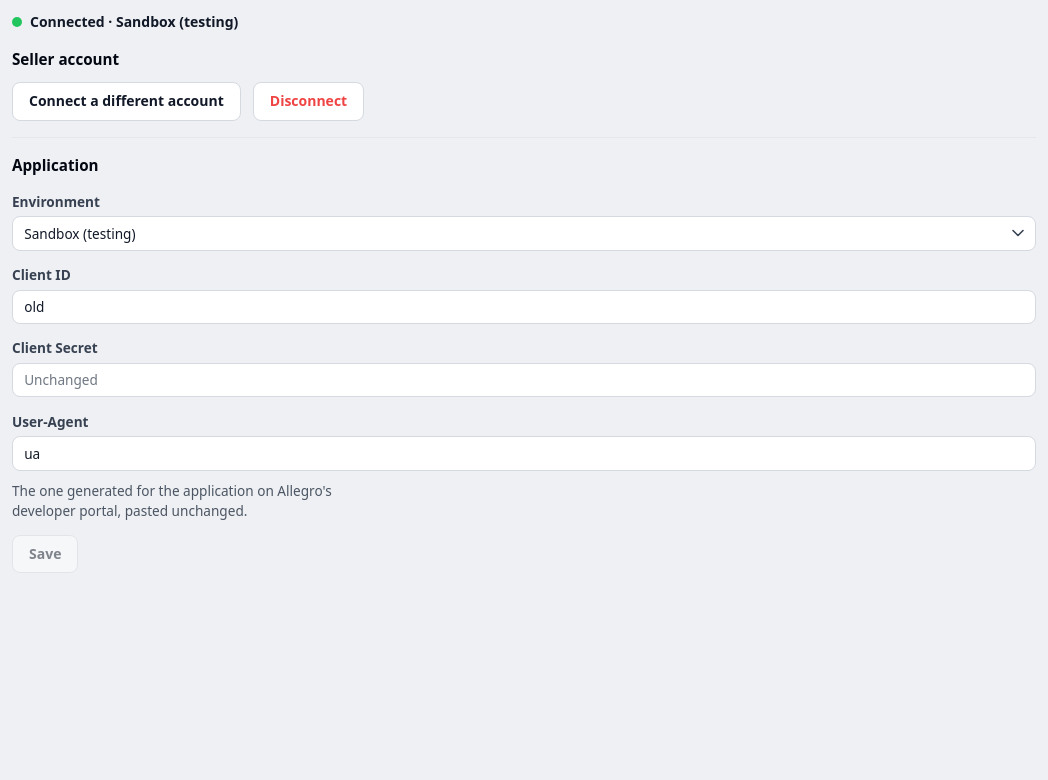
Test case: AllegroSettings › tells the operator when saving disconnected the account
Expected: the text "Connected · Sandbox (testing)" is shown, [30,12,238,32]
Replace the text in the field labelled "Client ID" with "new" at (524, 307), box [12,290,1036,324]
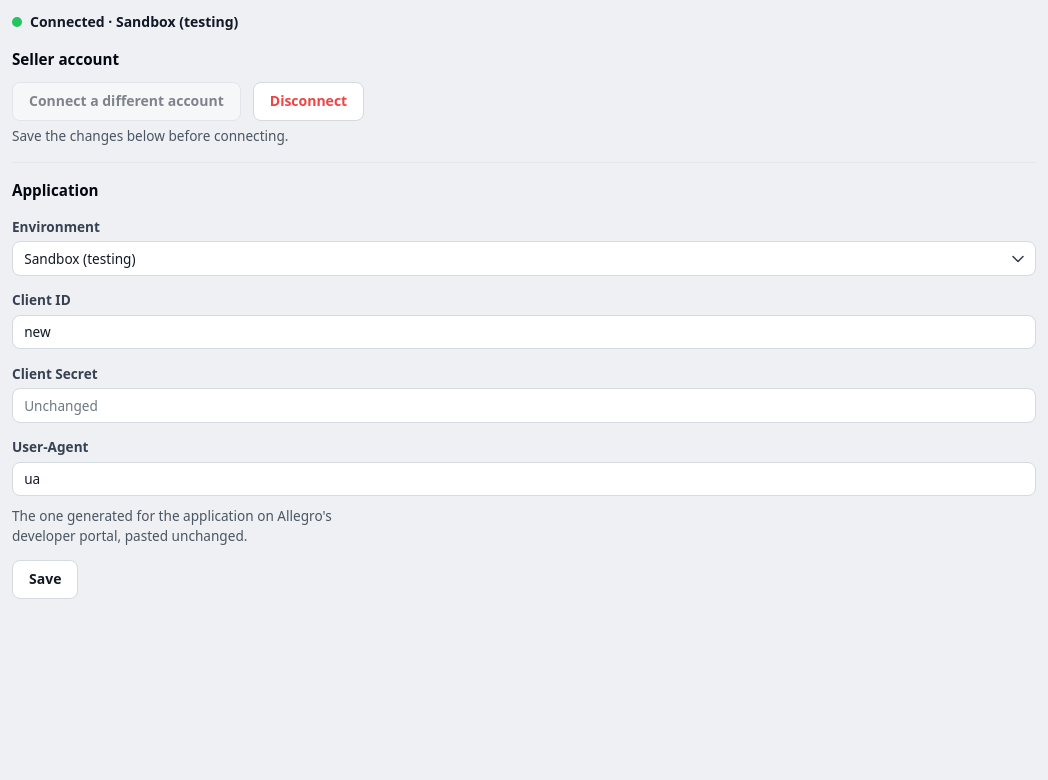
Click the button "Save" at (45, 579), box [12,560,78,599]
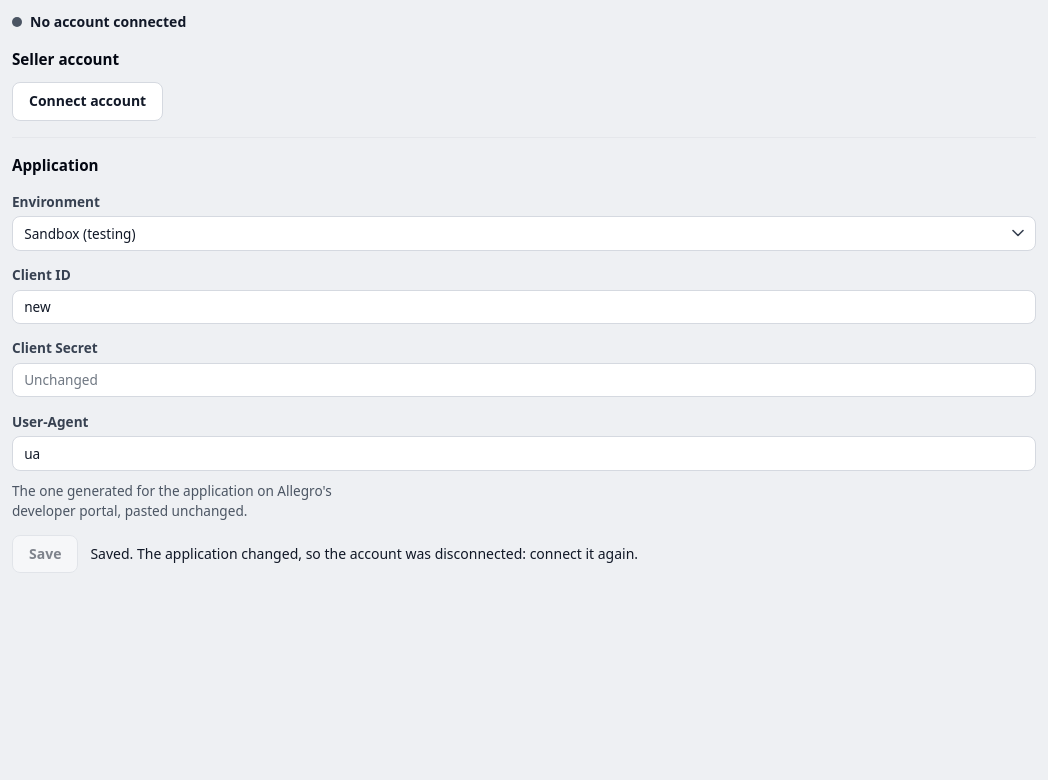
Expected: the text "account was disconnected" is shown, [90,544,638,563]
